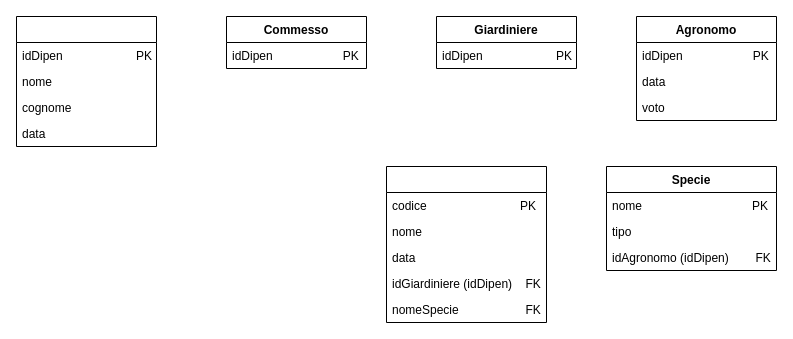
Image size: 793x339. Some labels were removed from this diagram. The shapes that lost their labels are listed below. From the top down, each one's box as (x1, y1, x2, y2) in pixels, then its label:
(16, 16, 156, 146): Dipendente
(386, 166, 546, 322): Pianta
